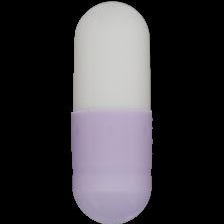76237-226: (0, 0, 224, 224)
